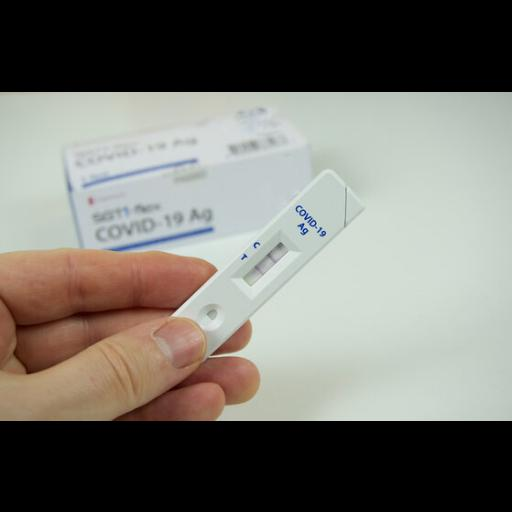Pos: (178, 167, 367, 347)
